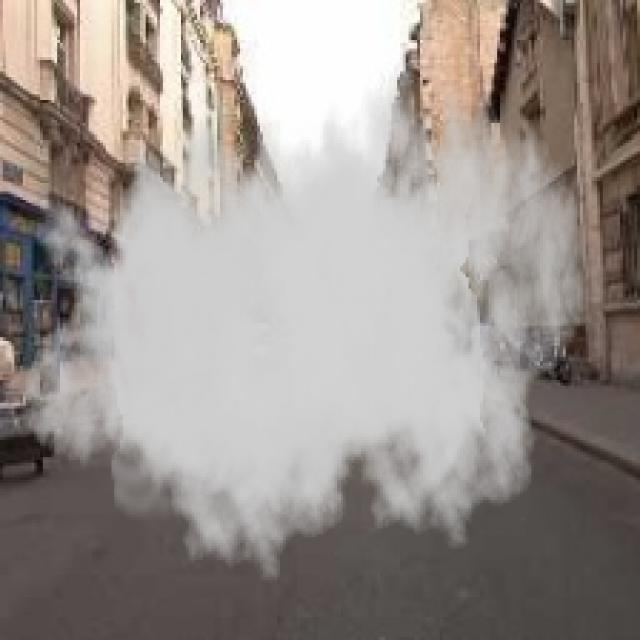smoke: (23, 26, 586, 591)
